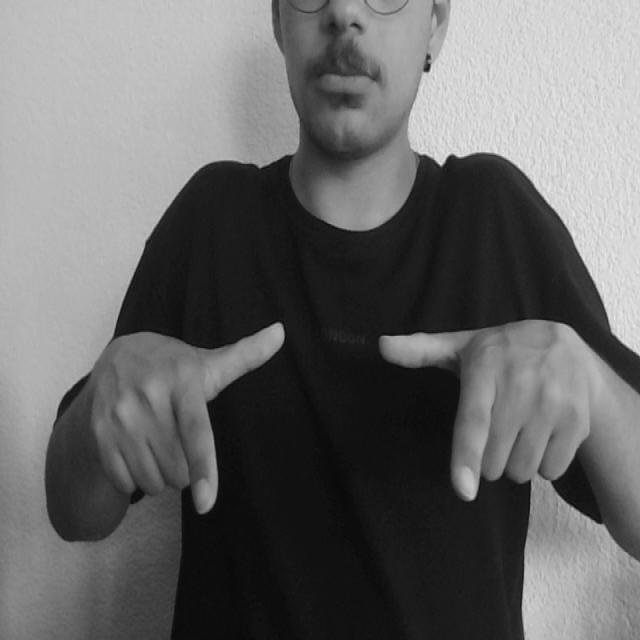Nerede: (166, 305, 504, 536)
